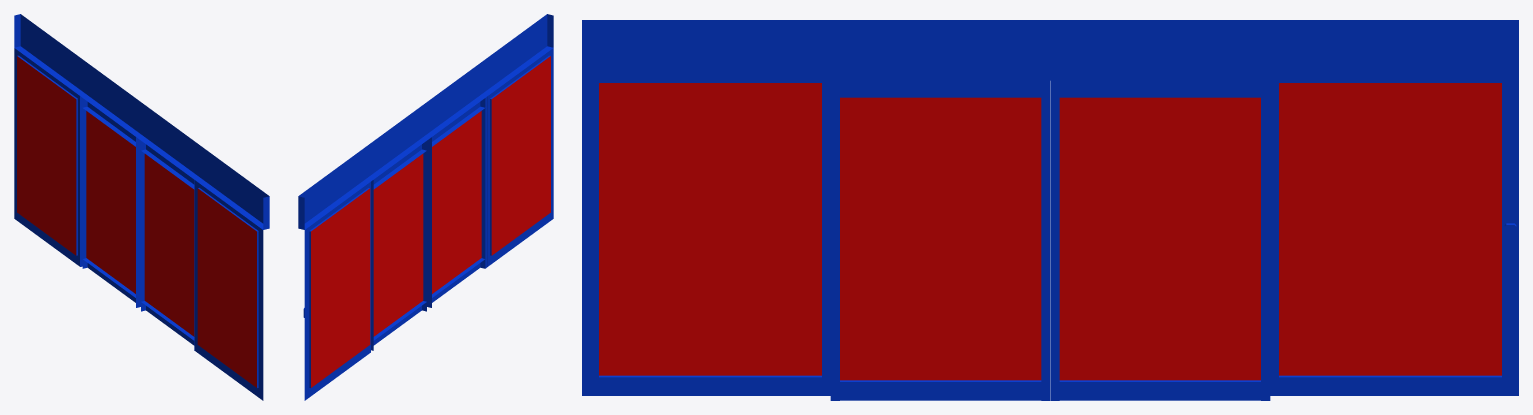
Rendered from wall06_l.fbx.
The picture shows the model from 3 angles, left to right: view 1: azimuth 30°, elevation 25°; view 2: azimuth 150°, elevation 25°; view 3: azimuth 270°, elevation 25°; orthographic projection. The views are drawn at different scales.
Visible parts, largest first — view 1: Plane.025; view 2: Plane.025; view 3: Plane.025.
Part boxes in pixels (x1,y1,x2,y2): Plane.025: (14,14,269,400); Plane.025: (298,14,553,400); Plane.025: (582,20,1518,400).
Size of the model in its own units: 19.02 by 450 by 1000.
